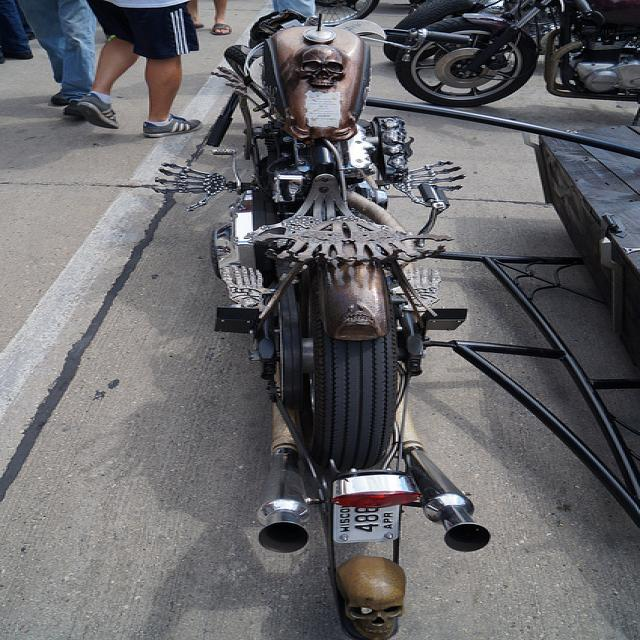motor: (153, 12, 495, 624), (397, 0, 640, 107), (387, 1, 543, 30)
